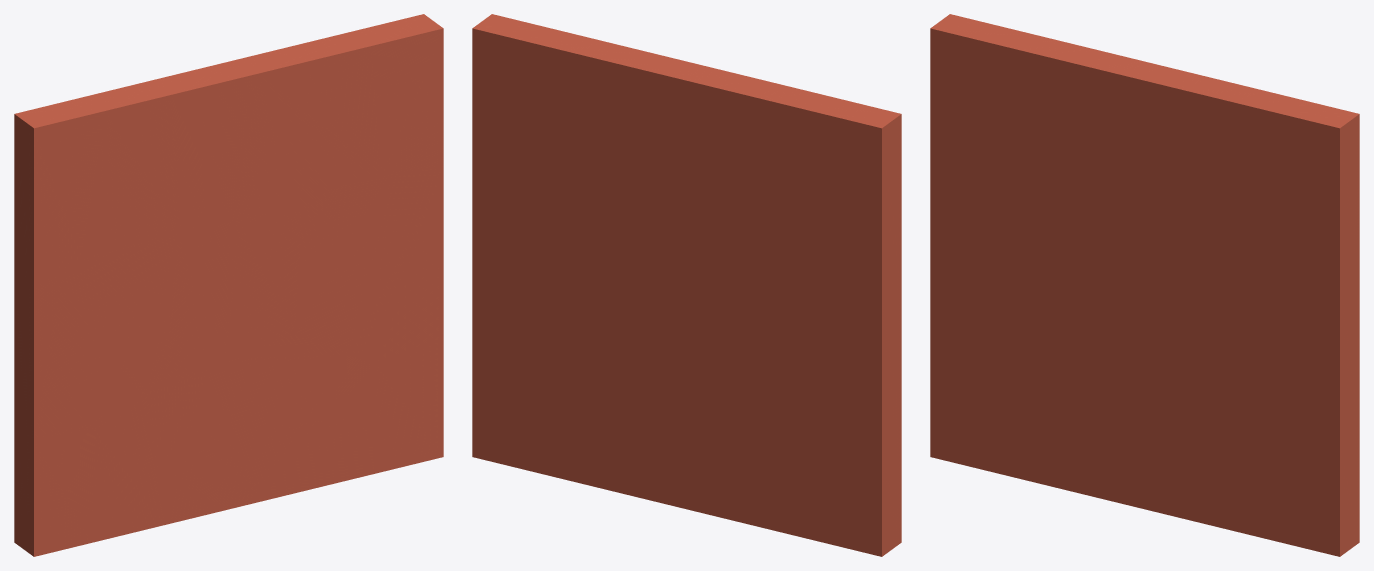
File: Kit_Brick_Wall_Fractured.glb
The picture shows the model from 3 angles, left to right: view 1: azimuth 30°, elevation 25°; view 2: azimuth 150°, elevation 25°; view 3: azimuth 330°, elevation 25°; orthographic projection.
Parts seen in each view (by area): view 1: Kit_Brick_Wall_frag_02, Kit_Brick_Wall_frag_03, Kit_Brick_Wall_frag_17, Kit_Brick_Wall_frag_15, Kit_Brick_Wall_frag_06, Kit_Brick_Wall_frag_07, Kit_Brick_Wall_frag_14, Kit_Brick_Wall_frag_09, Kit_Brick_Wall_frag_10, Kit_Brick_Wall_frag_05, Kit_Brick_Wall_frag_18, Kit_Brick_Wall_frag_13 (+6 smaller); view 2: Kit_Brick_Wall_frag_02, Kit_Brick_Wall_frag_03, Kit_Brick_Wall_frag_15, Kit_Brick_Wall_frag_14, Kit_Brick_Wall_frag_06, Kit_Brick_Wall_frag_17, Kit_Brick_Wall_frag_07, Kit_Brick_Wall_frag_09, Kit_Brick_Wall_frag_10, Kit_Brick_Wall_frag_18, Kit_Brick_Wall_frag_05, Kit_Brick_Wall_frag_13 (+6 smaller); view 3: Kit_Brick_Wall_frag_17, Kit_Brick_Wall_frag_18, Kit_Brick_Wall_frag_15, Kit_Brick_Wall_frag_06, Kit_Brick_Wall_frag_07, Kit_Brick_Wall_frag_02, Kit_Brick_Wall_frag_14, Kit_Brick_Wall_frag_09, Kit_Brick_Wall_frag_10, Kit_Brick_Wall_frag_05, Kit_Brick_Wall_frag_03, Kit_Brick_Wall_frag_16 (+6 smaller).
Part boxes in pixels (left/top/right/bottom): Kit_Brick_Wall_frag_02: left=14, top=274, right=147, bottom=438; Kit_Brick_Wall_frag_03: left=14, top=95, right=105, bottom=287; Kit_Brick_Wall_frag_17: left=350, top=167, right=443, bottom=362; Kit_Brick_Wall_frag_15: left=240, top=31, right=382, bottom=187; Kit_Brick_Wall_frag_06: left=82, top=80, right=181, bottom=257; Kit_Brick_Wall_frag_07: left=141, top=373, right=257, bottom=524; Kit_Brick_Wall_frag_14: left=295, top=171, right=390, bottom=354; Kit_Brick_Wall_frag_09: left=152, top=60, right=253, bottom=228; Kit_Brick_Wall_frag_10: left=207, top=334, right=347, bottom=487; Kit_Brick_Wall_frag_05: left=60, top=232, right=177, bottom=389; Kit_Brick_Wall_frag_18: left=352, top=14, right=443, bottom=173; Kit_Brick_Wall_frag_13: left=256, top=354, right=376, bottom=502; Kit_Brick_Wall_frag_02: left=767, top=273, right=901, bottom=438; Kit_Brick_Wall_frag_03: left=806, top=96, right=901, bottom=288; Kit_Brick_Wall_frag_15: left=533, top=31, right=675, bottom=187; Kit_Brick_Wall_frag_14: left=521, top=171, right=621, bottom=354; Kit_Brick_Wall_frag_06: left=734, top=80, right=829, bottom=256; Kit_Brick_Wall_frag_17: left=472, top=169, right=561, bottom=359; Kit_Brick_Wall_frag_07: left=659, top=372, right=771, bottom=523; Kit_Brick_Wall_frag_09: left=664, top=60, right=763, bottom=229; Kit_Brick_Wall_frag_10: left=570, top=334, right=709, bottom=484; Kit_Brick_Wall_frag_18: left=472, top=14, right=563, bottom=174; Kit_Brick_Wall_frag_05: left=737, top=232, right=853, bottom=388; Kit_Brick_Wall_frag_13: left=536, top=352, right=660, bottom=502; Kit_Brick_Wall_frag_17: left=1246, top=248, right=1359, bottom=437; Kit_Brick_Wall_frag_18: left=1267, top=96, right=1359, bottom=267; Kit_Brick_Wall_frag_15: left=1156, top=69, right=1287, bottom=241; Kit_Brick_Wall_frag_06: left=979, top=32, right=1086, bottom=201; Kit_Brick_Wall_frag_07: left=1037, top=343, right=1153, bottom=510; Kit_Brick_Wall_frag_02: left=930, top=187, right=1043, bottom=359; Kit_Brick_Wall_frag_14: left=1191, top=232, right=1287, bottom=408; Kit_Brick_Wall_frag_09: left=1068, top=47, right=1167, bottom=217; Kit_Brick_Wall_frag_10: left=1103, top=351, right=1243, bottom=496; Kit_Brick_Wall_frag_05: left=956, top=181, right=1073, bottom=345; Kit_Brick_Wall_frag_03: left=930, top=14, right=1024, bottom=191; Kit_Brick_Wall_frag_16: left=1270, top=422, right=1359, bottom=556.
Size of what is drawn, in the model's own units: 3 by 3 by 0.25.
2 materials, 2 textured.
